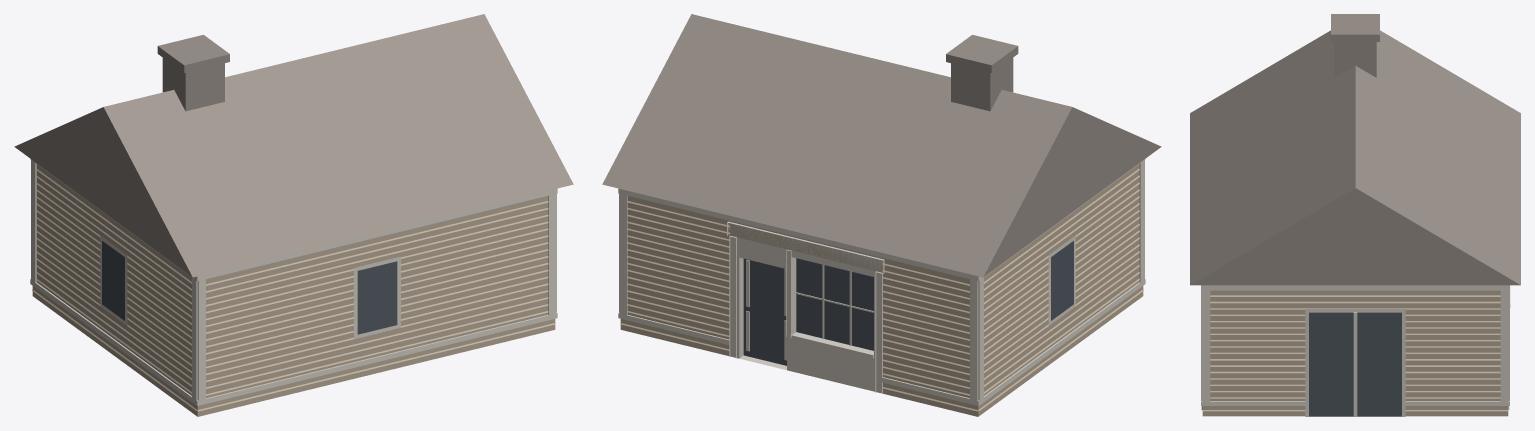
The model's file is pruyne_kimball_drugstore__frame_1830s.glb.
3 views of the same model, side by side, from view 1: azimuth 30°, elevation 25°; view 2: azimuth 150°, elevation 25°; view 3: azimuth 270°, elevation 25° (orthographic). The views are drawn at different scales.
Parts seen in each view (by area): view 1: pruyne_kimball_drugstore__frame_1830s; view 2: pruyne_kimball_drugstore__frame_1830s; view 3: pruyne_kimball_drugstore__frame_1830s.
Boxes of the visible parts, x1=… form: pruyne_kimball_drugstore__frame_1830s: x1=14, y1=14, x2=573, y2=416; pruyne_kimball_drugstore__frame_1830s: x1=602, y1=14, x2=1161, y2=416; pruyne_kimball_drugstore__frame_1830s: x1=1190, y1=14, x2=1520, y2=416.
Bounding box in the file's own units: 8.12 × 5.85 × 6.6.
